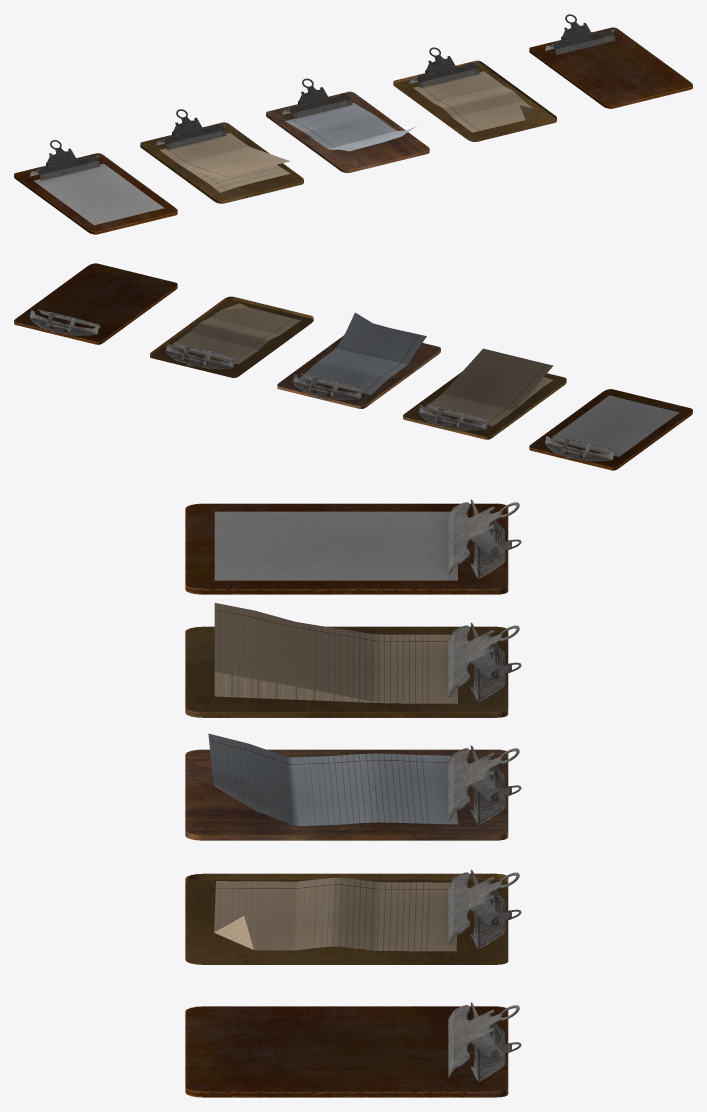
The model's file is carpetas.fbx.
3 views of the same model, one above another, from view 1: azimuth 30°, elevation 25°; view 2: azimuth 150°, elevation 25°; view 3: azimuth 270°, elevation 25° (orthographic). The views are drawn at different scales.
Parts seen in each view (by area): view 1: 28896da0-185a-4de7-96ae-8119dd6e4853, f7874275-a905-4f81-a79c-814889a661d5, 376d151e-9114-4766-9eba-be3099a3da20, 41ac7acc-dc7f-487a-ac1f-4f5fdba0496e, 33ef0e16-64a6-4bc8-a2b1-9009a7e5dae0; view 2: 28896da0-185a-4de7-96ae-8119dd6e4853, f7874275-a905-4f81-a79c-814889a661d5, 33ef0e16-64a6-4bc8-a2b1-9009a7e5dae0, 376d151e-9114-4766-9eba-be3099a3da20, 41ac7acc-dc7f-487a-ac1f-4f5fdba0496e; view 3: 28896da0-185a-4de7-96ae-8119dd6e4853, f7874275-a905-4f81-a79c-814889a661d5, 376d151e-9114-4766-9eba-be3099a3da20, 33ef0e16-64a6-4bc8-a2b1-9009a7e5dae0, 41ac7acc-dc7f-487a-ac1f-4f5fdba0496e.
Part boxes in pixels (box(x1,y1,x2,y2)): 28896da0-185a-4de7-96ae-8119dd6e4853: box(140, 109, 303, 203); f7874275-a905-4f81-a79c-814889a661d5: box(266, 78, 429, 173); 376d151e-9114-4766-9eba-be3099a3da20: box(529, 14, 692, 108); 41ac7acc-dc7f-487a-ac1f-4f5fdba0496e: box(393, 47, 556, 141); 33ef0e16-64a6-4bc8-a2b1-9009a7e5dae0: box(14, 140, 177, 234); 28896da0-185a-4de7-96ae-8119dd6e4853: box(403, 348, 566, 439); f7874275-a905-4f81-a79c-814889a661d5: box(277, 312, 440, 408); 33ef0e16-64a6-4bc8-a2b1-9009a7e5dae0: box(529, 389, 692, 470); 376d151e-9114-4766-9eba-be3099a3da20: box(14, 263, 177, 344); 41ac7acc-dc7f-487a-ac1f-4f5fdba0496e: box(150, 296, 313, 377); 28896da0-185a-4de7-96ae-8119dd6e4853: box(185, 603, 521, 717); f7874275-a905-4f81-a79c-814889a661d5: box(185, 733, 521, 840); 376d151e-9114-4766-9eba-be3099a3da20: box(185, 1002, 521, 1097); 33ef0e16-64a6-4bc8-a2b1-9009a7e5dae0: box(185, 499, 521, 594); 41ac7acc-dc7f-487a-ac1f-4f5fdba0496e: box(185, 869, 521, 964).
Size of the model in its own units: 61.53 by 2.33 by 14.85.
3 materials, 3 textured.
